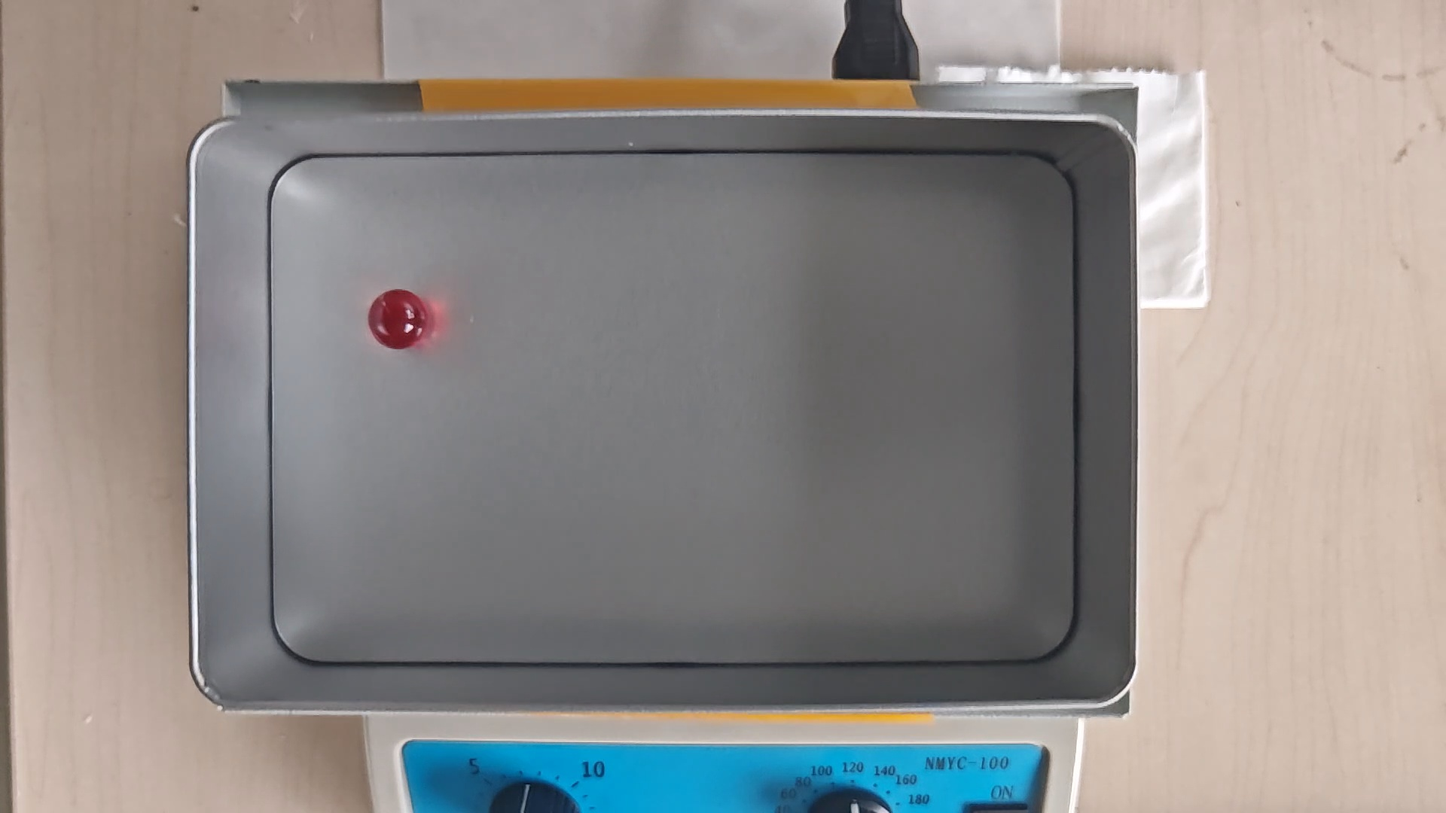ball: (368, 289, 431, 350)
container: (269, 153, 1077, 663)
